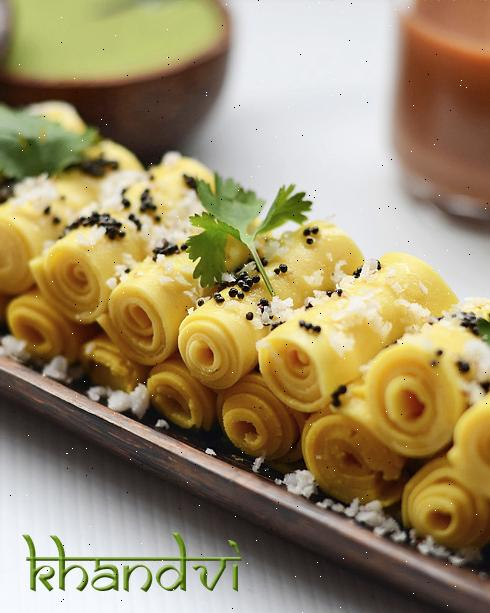khandvi: (12, 118, 490, 478)
